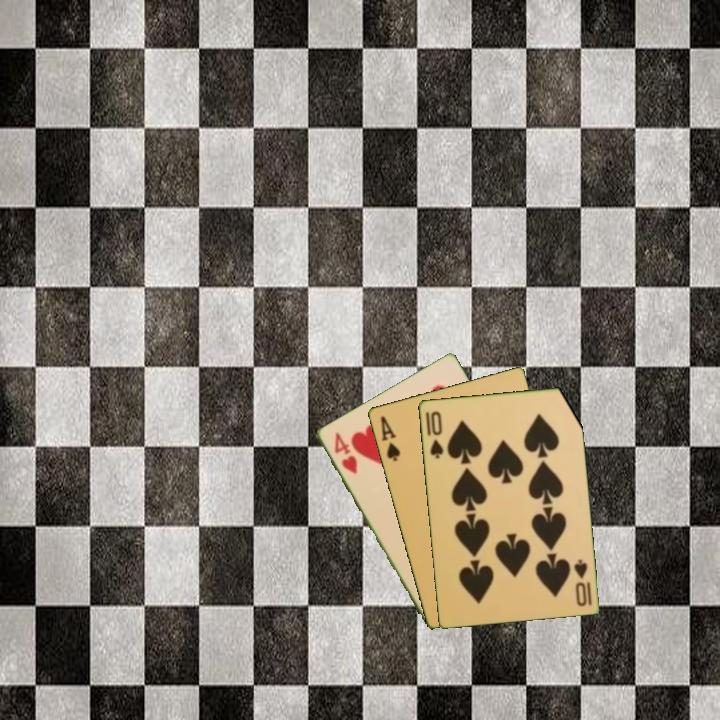10s: (422, 407, 446, 461), (570, 555, 594, 609)
4h: (330, 429, 360, 477)
As: (377, 412, 403, 464)
